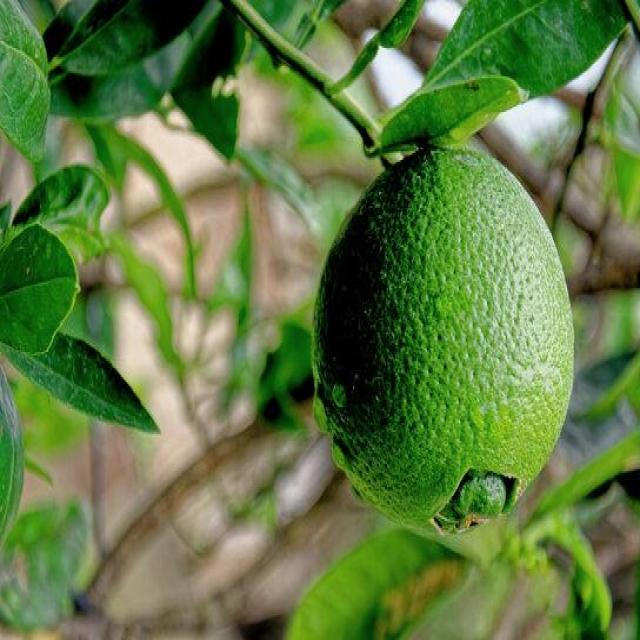Jeruk Belum Matang: (313, 147, 578, 538)
